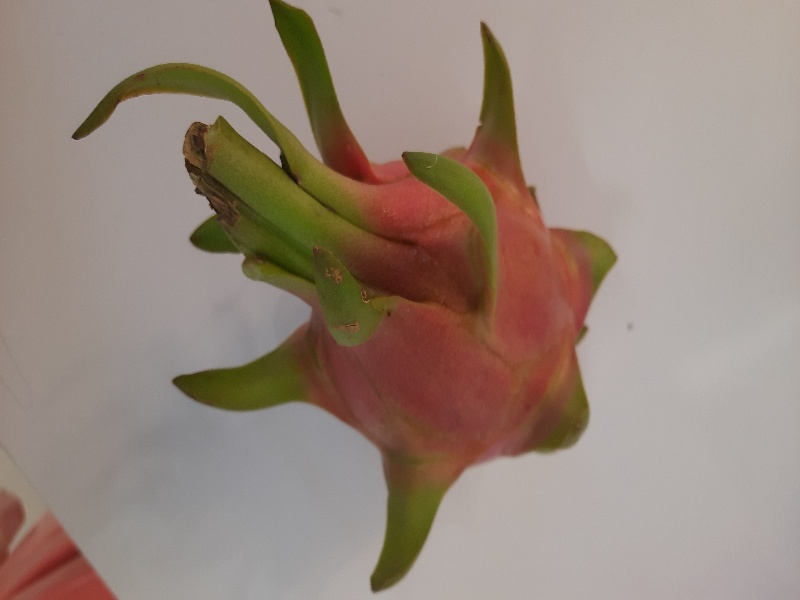fruit: (63, 31, 617, 552)
